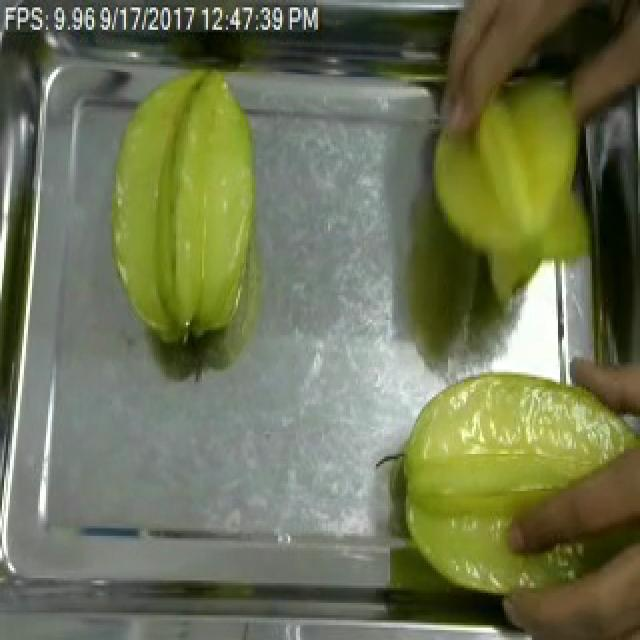fruit: (384, 357, 640, 615), (98, 57, 268, 362), (418, 55, 606, 295)
